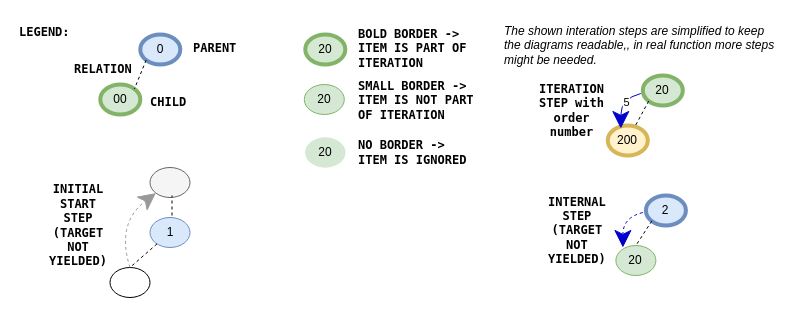
Some shapes in this 796 by 315 pixel diagram are drawn without their labels. Here are the shapes that lost their labels. From the top down, the centre of each, then its label:
At point (169, 182): "root".
At point (129, 282): "self".
